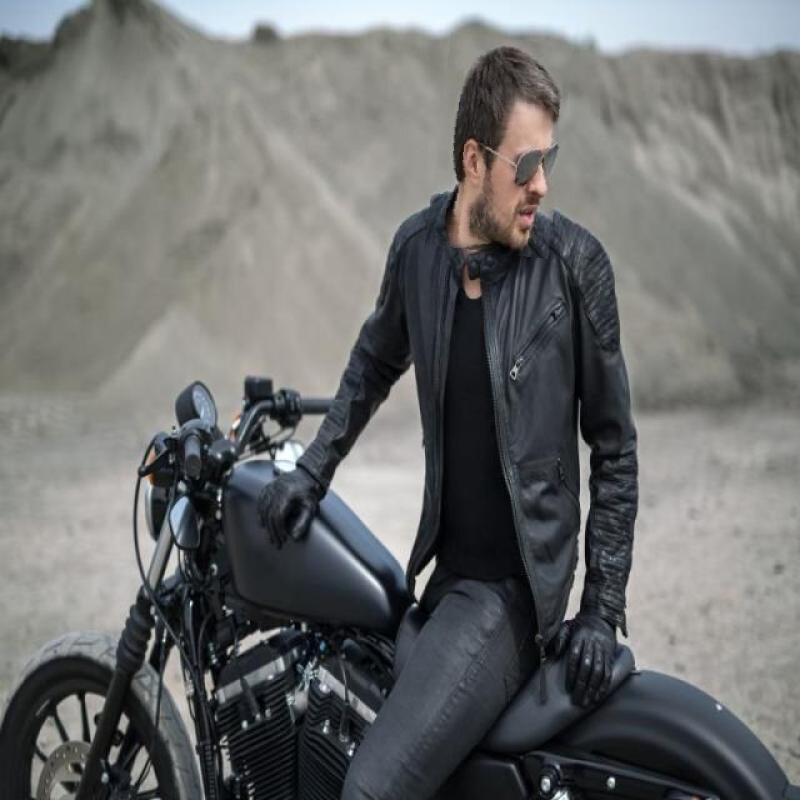nohelmet: (431, 35, 568, 256)
